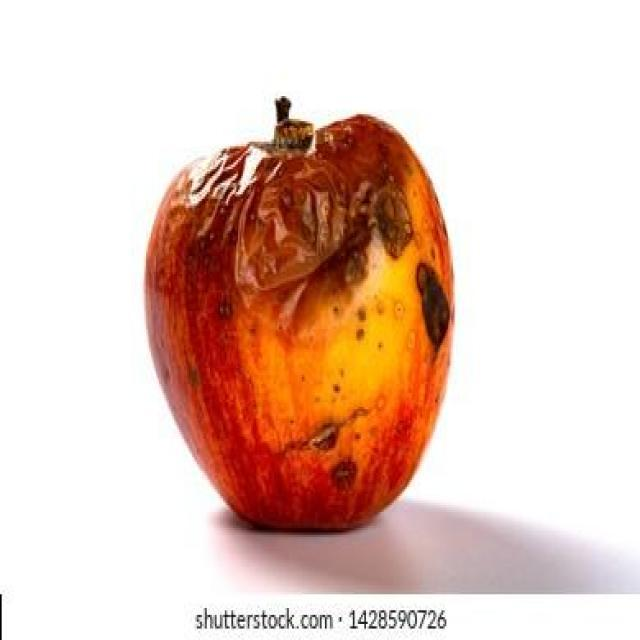Banana: (135, 113, 460, 538)
